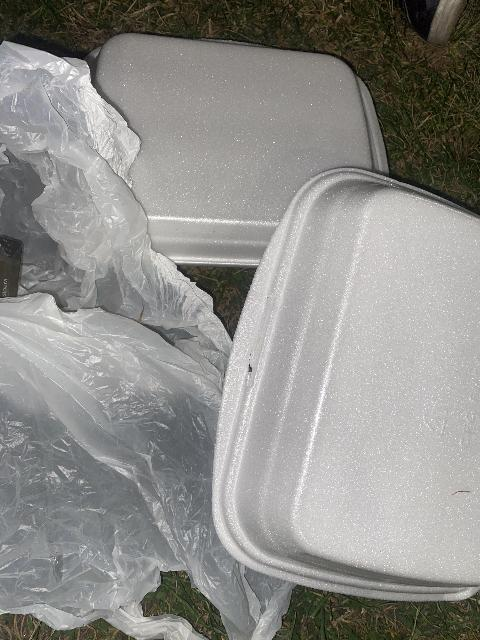Plastik: (221, 160, 480, 573), (0, 300, 294, 638), (75, 40, 390, 267), (0, 38, 224, 356)
